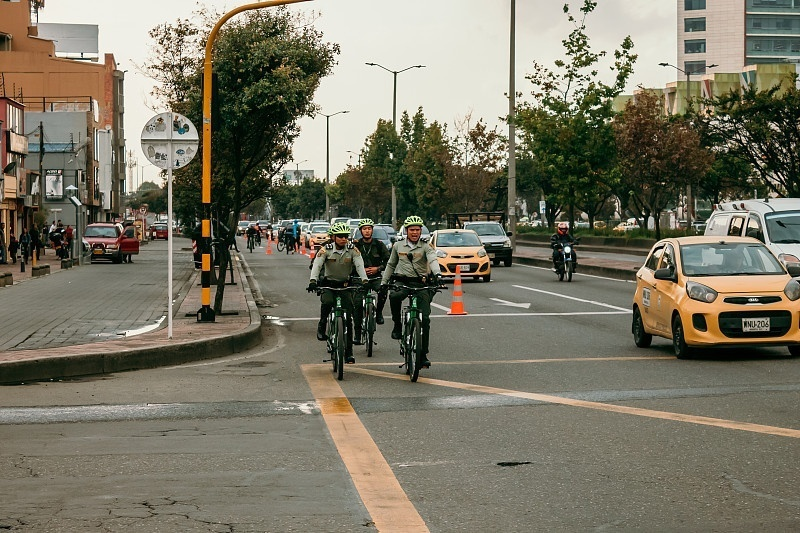non-vehicle: (384, 282, 438, 376), (313, 280, 354, 375), (359, 280, 379, 355), (550, 241, 577, 280)
